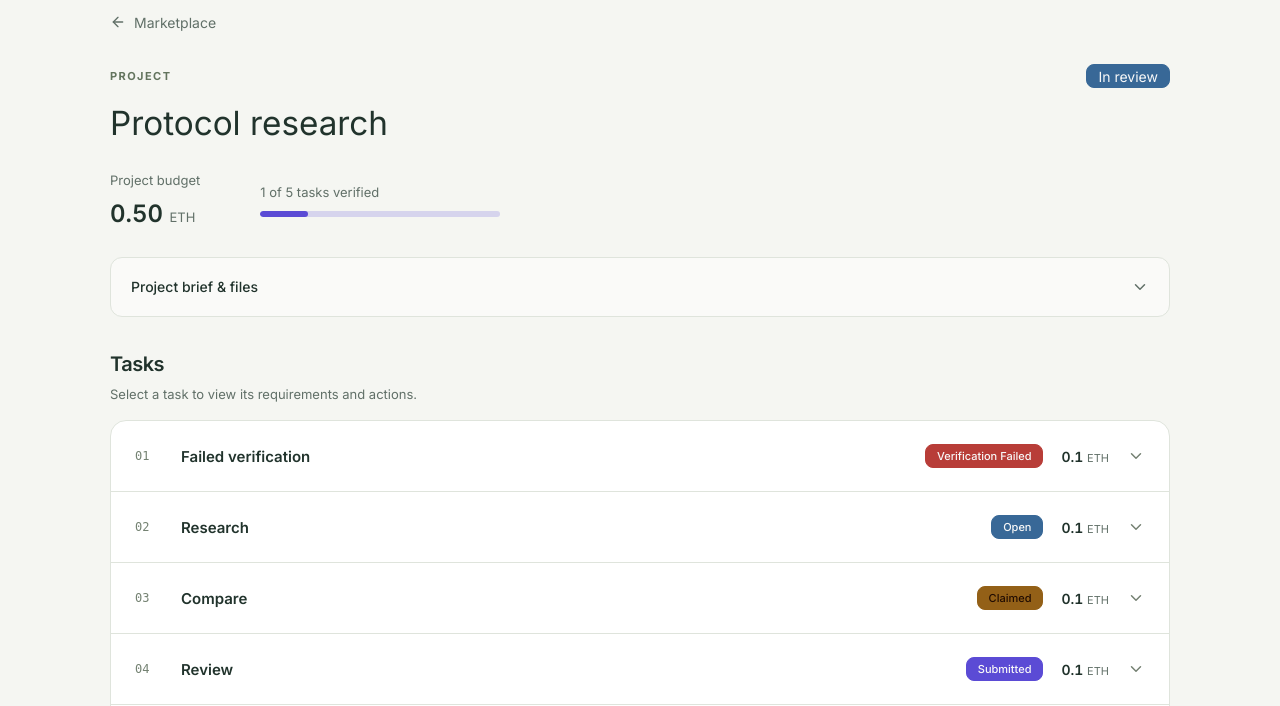
Test: Simplified project details › keeps the claim review available without initiating a transaction
Click the button "02 Research Open 0.1 ETH": (215, 527) [111,492,1169,562]
(page scrolled)
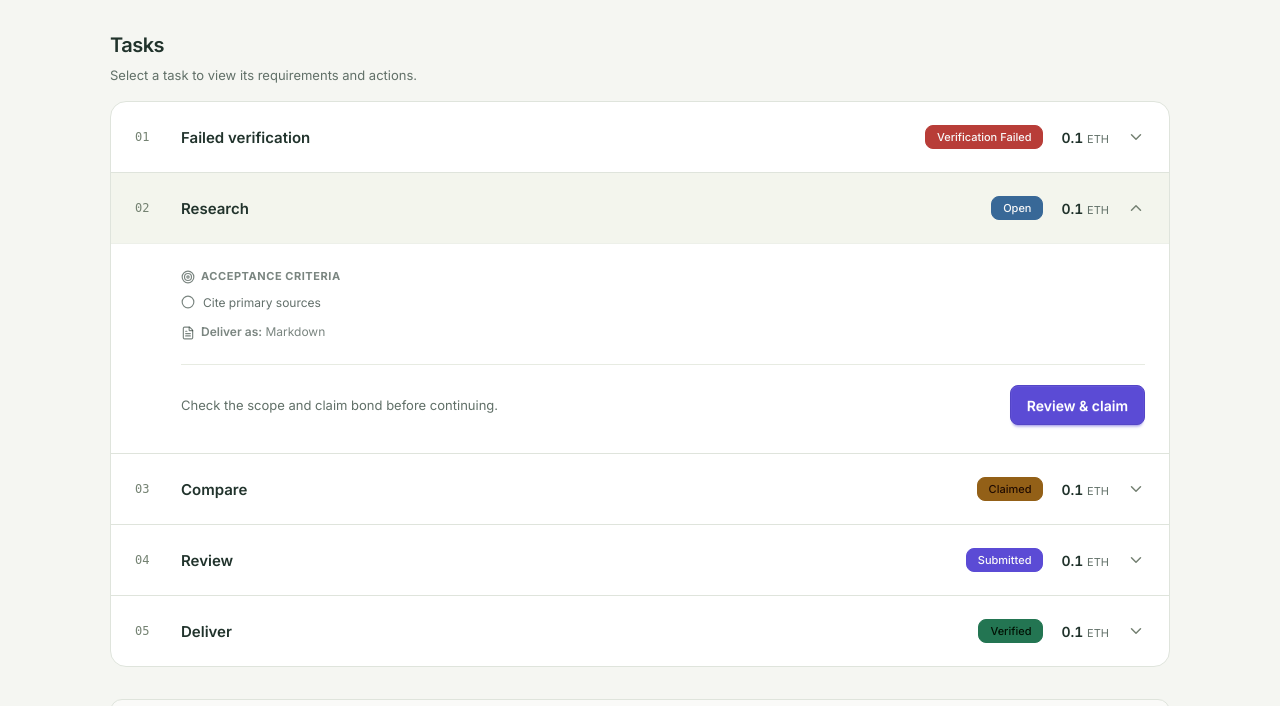
Click the button "Review & claim": (1077, 405) [1010,385,1145,425]
(page scrolled)
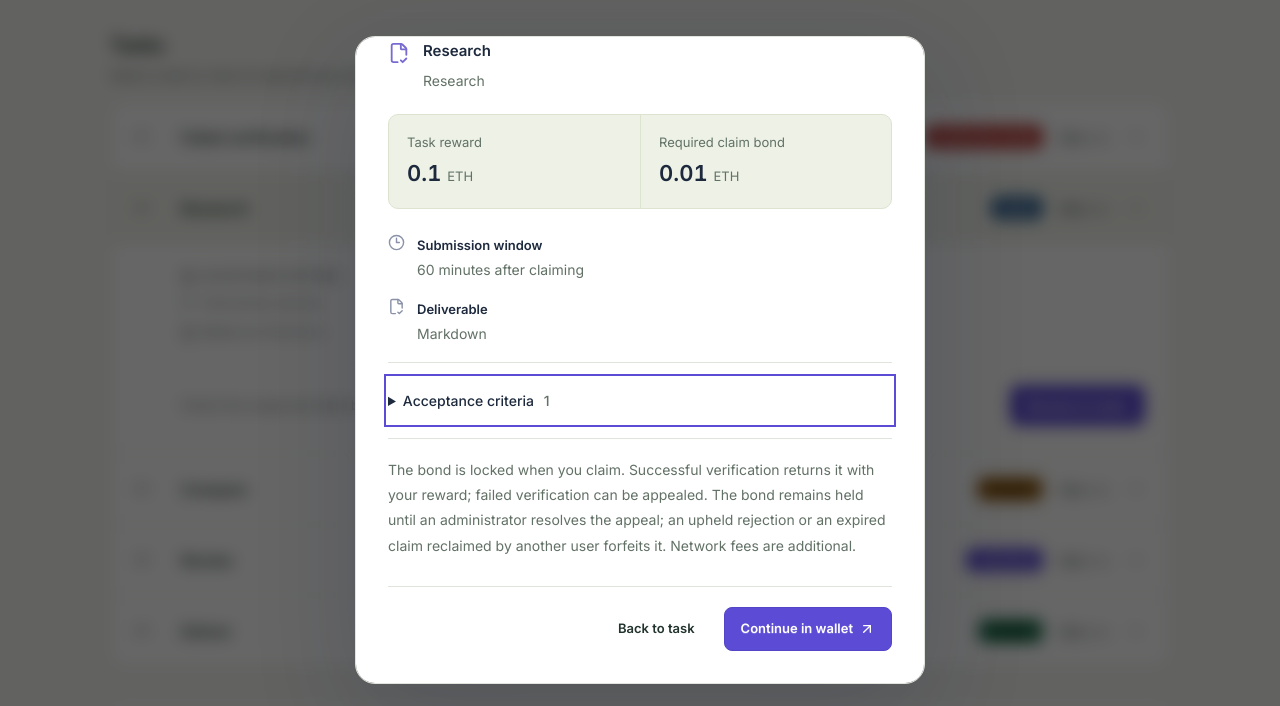
expect the dialog shows "Required claim bond": met, box [659,134,785,150]
expect the button "Continue in wallet" is shown: met, box [724,607,892,651]
